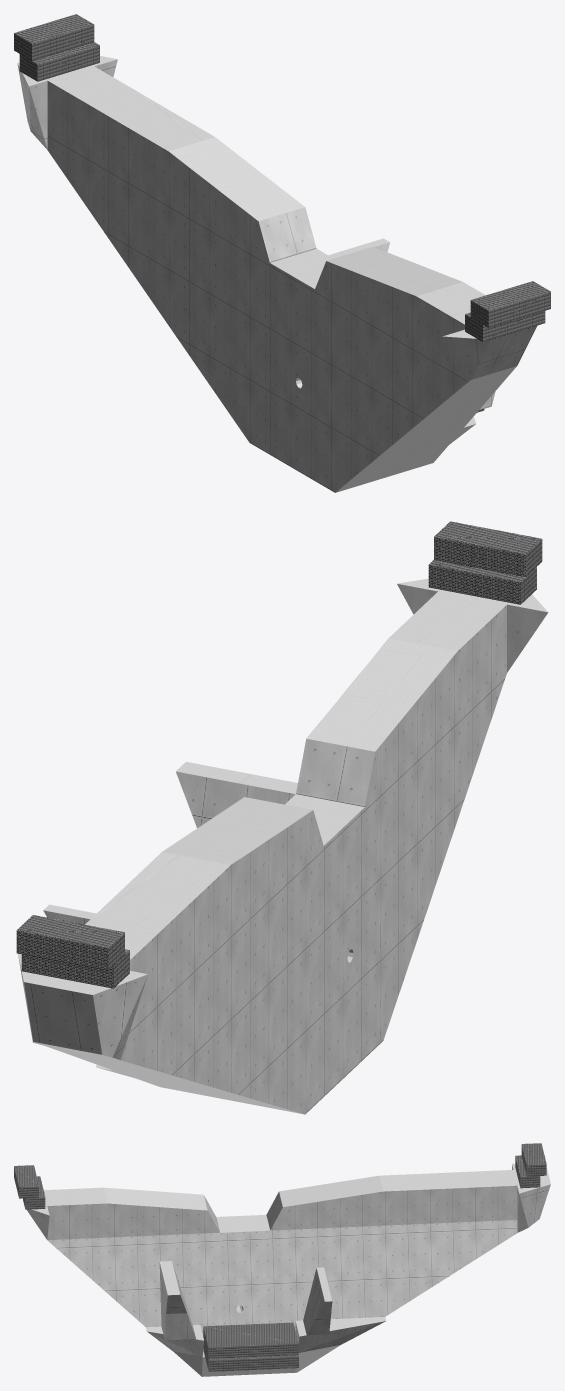
3 views of the same model, one above another, from view 1: azimuth 30°, elevation 25°; view 2: azimuth 150°, elevation 25°; view 3: azimuth 270°, elevation 25° (orthographic). The views are drawn at different scales.
Visible parts, largest first — view 1: ブロック.001, ブロック, ブロック.003; view 2: ブロック.001, ブロック, ブロック.003; view 3: ブロック.001, ブロック, ブロック.003.
Boxes of the visible parts, x1=… form: ブロック.001: x1=17, y1=59, x2=536, y2=492; ブロック: x1=17, y1=56, x2=516, y2=492; ブロック.003: x1=14, y1=14, x2=550, y2=412; ブロック.001: x1=18, y1=584, x2=548, y2=1114; ブロック: x1=18, y1=578, x2=547, y2=1114; ブロック.003: x1=16, y1=521, x2=542, y2=988; ブロック.001: x1=27, y1=1165, x2=550, y2=1357; ブロック: x1=32, y1=1163, x2=550, y2=1376; ブロック.003: x1=14, y1=1143, x2=546, y2=1371.
Size of the model in its own units: 7.02 by 8 by 21.32.
Materials: 4 (3 with a texture image).
